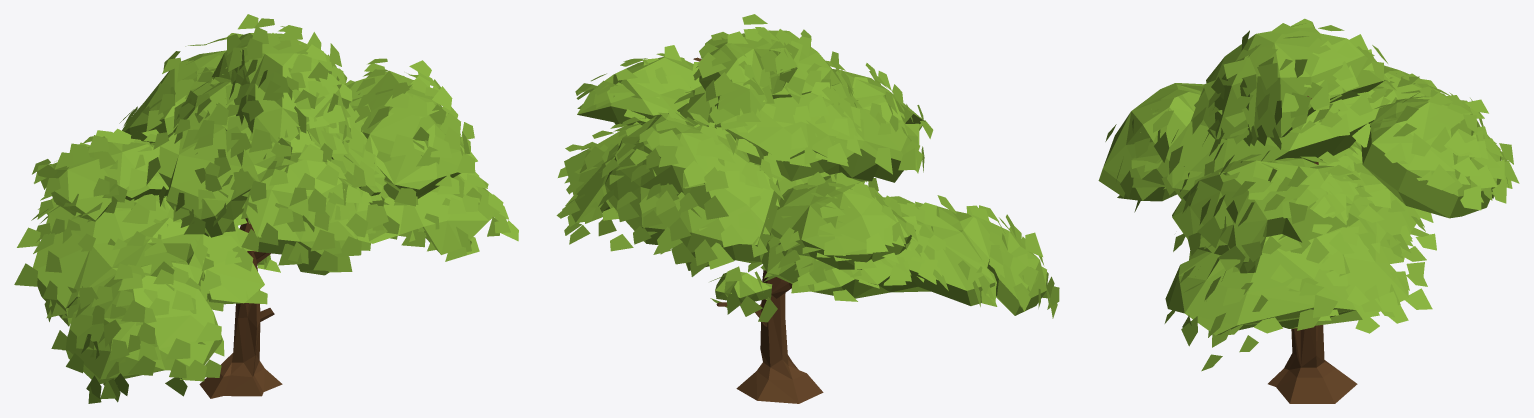
Rendered from tree-oak-mature-a.gltf.
The picture shows the model from 3 angles, left to right: view 1: azimuth 30°, elevation 25°; view 2: azimuth 150°, elevation 25°; view 3: azimuth 270°, elevation 25°; orthographic projection. The views are drawn at different scales.
Visible parts, largest first — view 1: tree-oak-mature-a; view 2: tree-oak-mature-a; view 3: tree-oak-mature-a.
Part boxes in pixels (bbox=[...]): tree-oak-mature-a: bbox=[14, 14, 518, 403]; tree-oak-mature-a: bbox=[556, 14, 1059, 403]; tree-oak-mature-a: bbox=[1098, 18, 1519, 403].
Bounding box in the file's own units: 0.1186 × 0.0885 × 0.0907.
